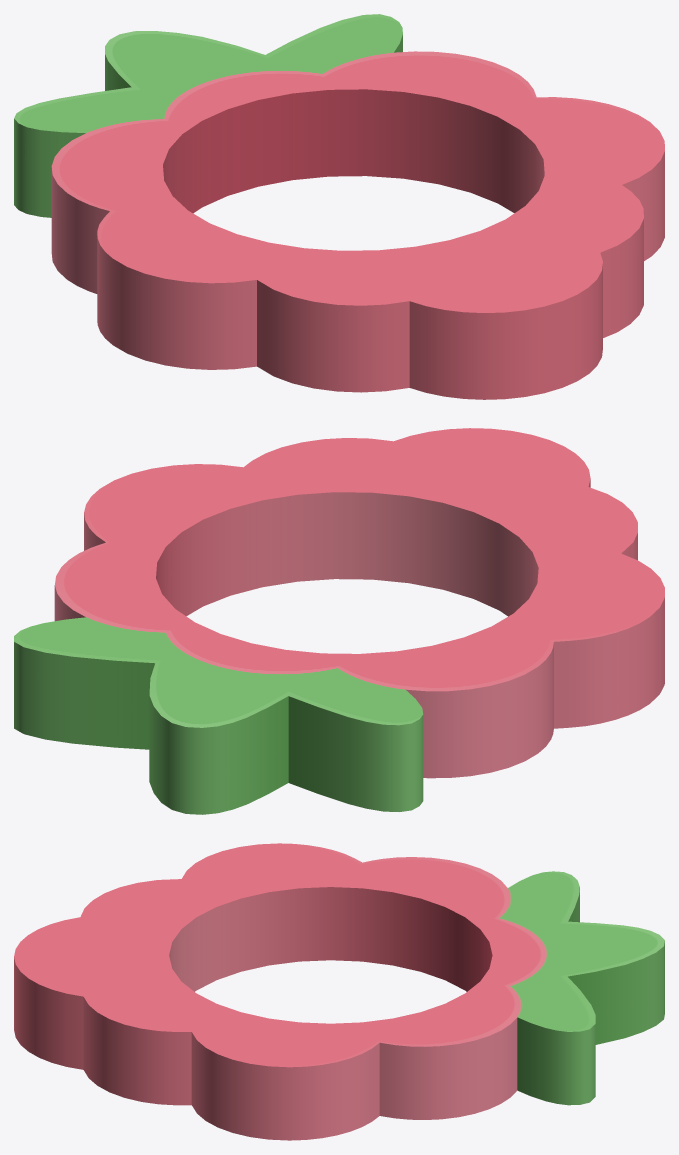
The model's file is Raspberry.FBX.
3 renders of one model, top to bottom at view 1: azimuth 30°, elevation 25°; view 2: azimuth 150°, elevation 25°; view 3: azimuth 270°, elevation 25°, orthographic. The views are drawn at different scales.
Visible parts, largest first — view 1: Raspberry; view 2: Raspberry; view 3: Raspberry.
Boxes of the visible parts, left/top/right/bottom form: Raspberry: left=14, top=14, right=664, bottom=399; Raspberry: left=14, top=428, right=664, bottom=814; Raspberry: left=14, top=843, right=664, bottom=1140.
Bounding box in the file's own units: 45.86 × 7 × 56.36.
1 material, 1 textured.
